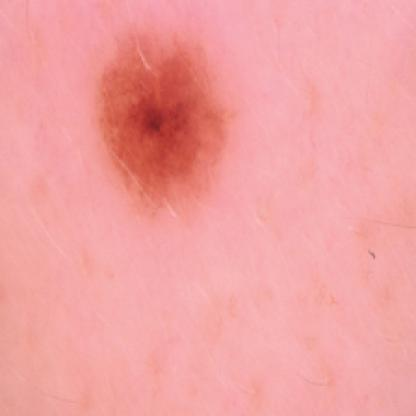benign: (84, 45, 232, 193)
